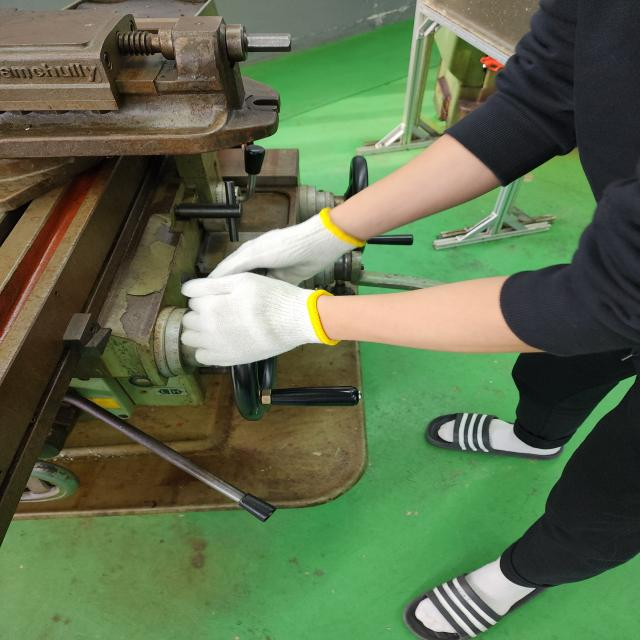Boots: (180, 271, 340, 367), (213, 206, 362, 265)
